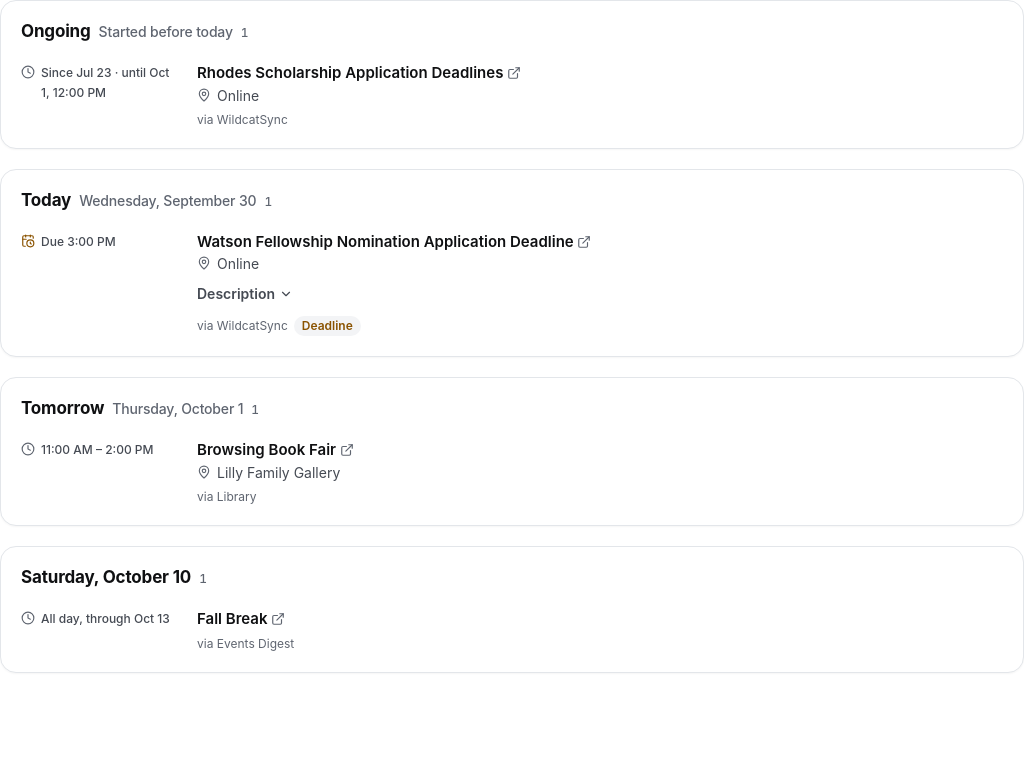
Test: EventList › holds a summary behind a Description toggle, closed until pressed
The image size is (1024, 768).
Click the heading "Description": (245, 294) [197,278,293,310]
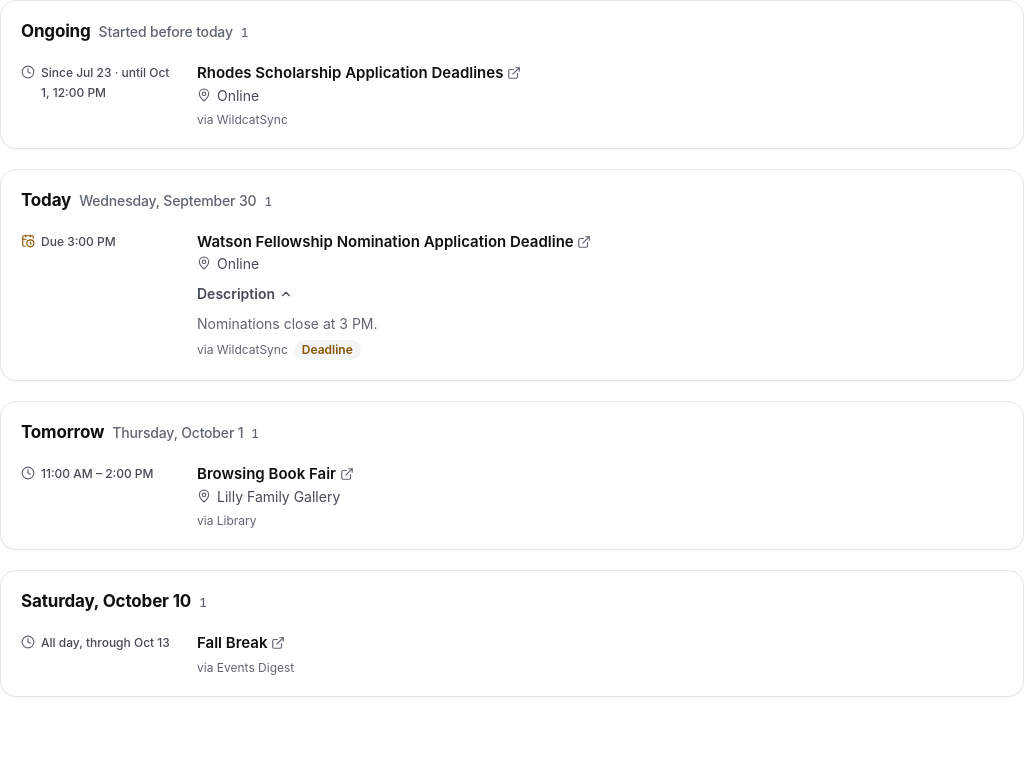
Expected: the text with test id "event-summary" reads "Nominations close at 3 PM.", [197,315,378,332]
